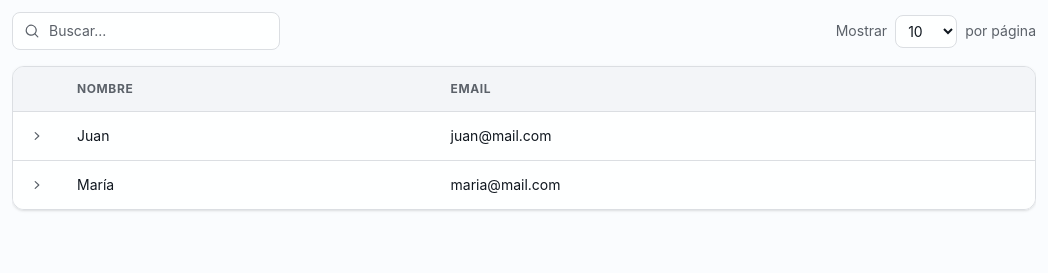
Scenario: DataTable › expands and collapses row on toggle click
Click the button named "Expandir" in the row of "juan@mail.com": click(37, 136) [29, 124, 45, 148]
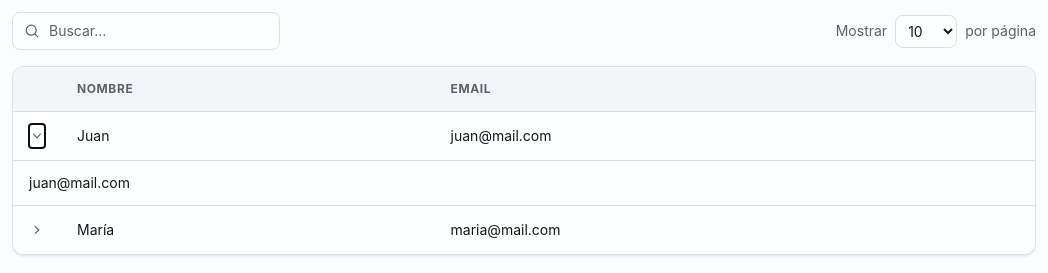
Result: the text with test id "expanded-1" is shown at [29, 174, 130, 191]
Click the button named "Expandir": click(37, 136) [29, 124, 45, 148]
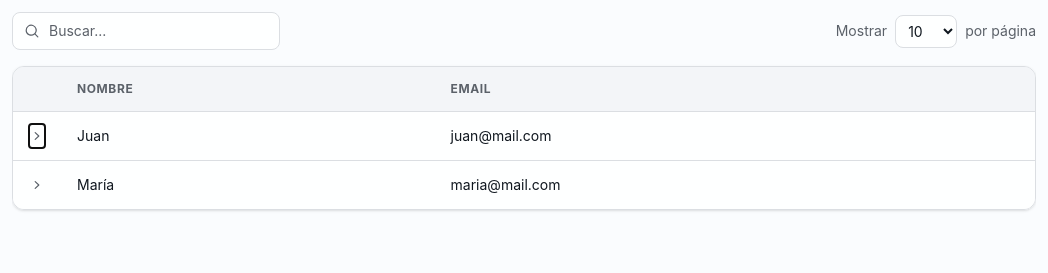
Result: the text with test id "expanded-1" is gone
